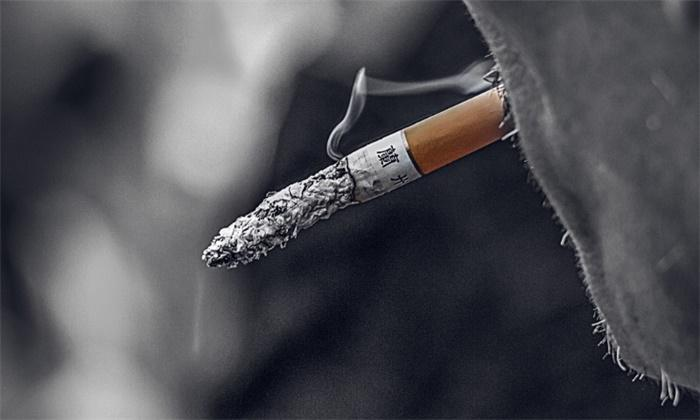smoke: (201, 81, 524, 271)
